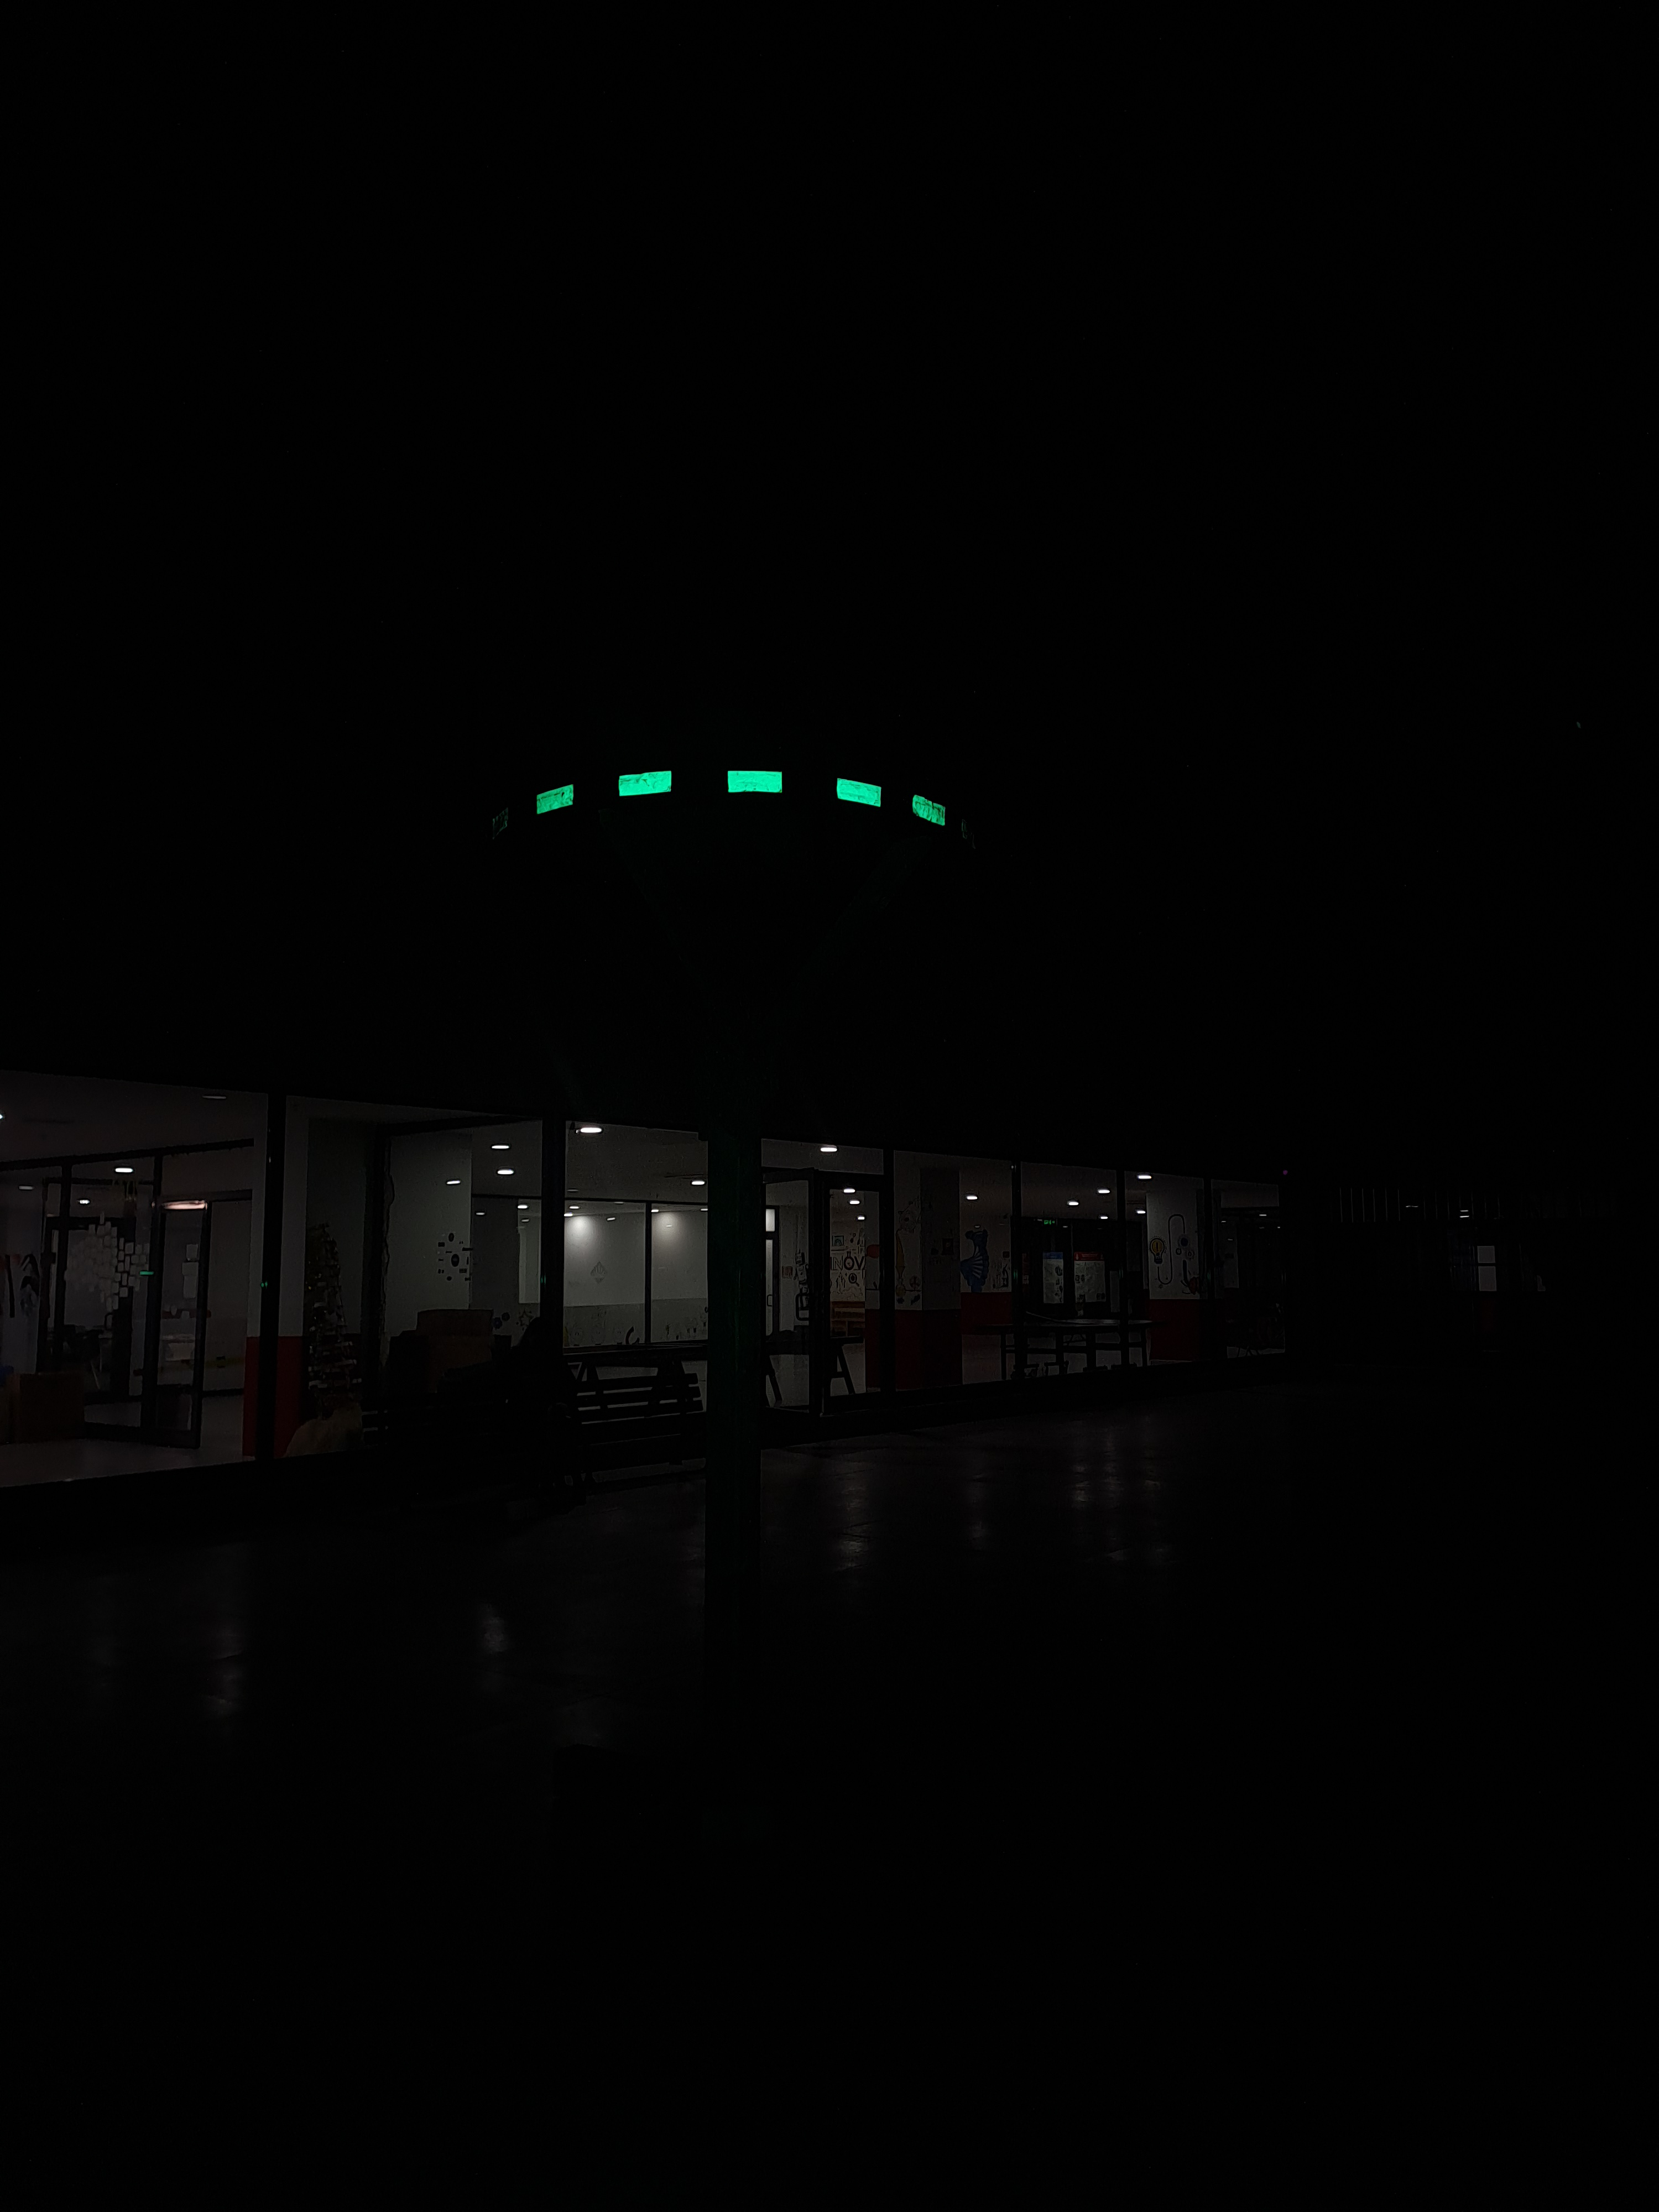hoop: (526, 766, 950, 831)
